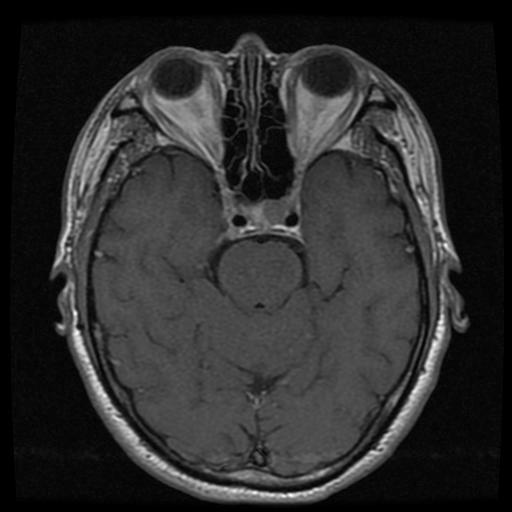Tumour-Pituitary: (219, 194, 307, 249)
